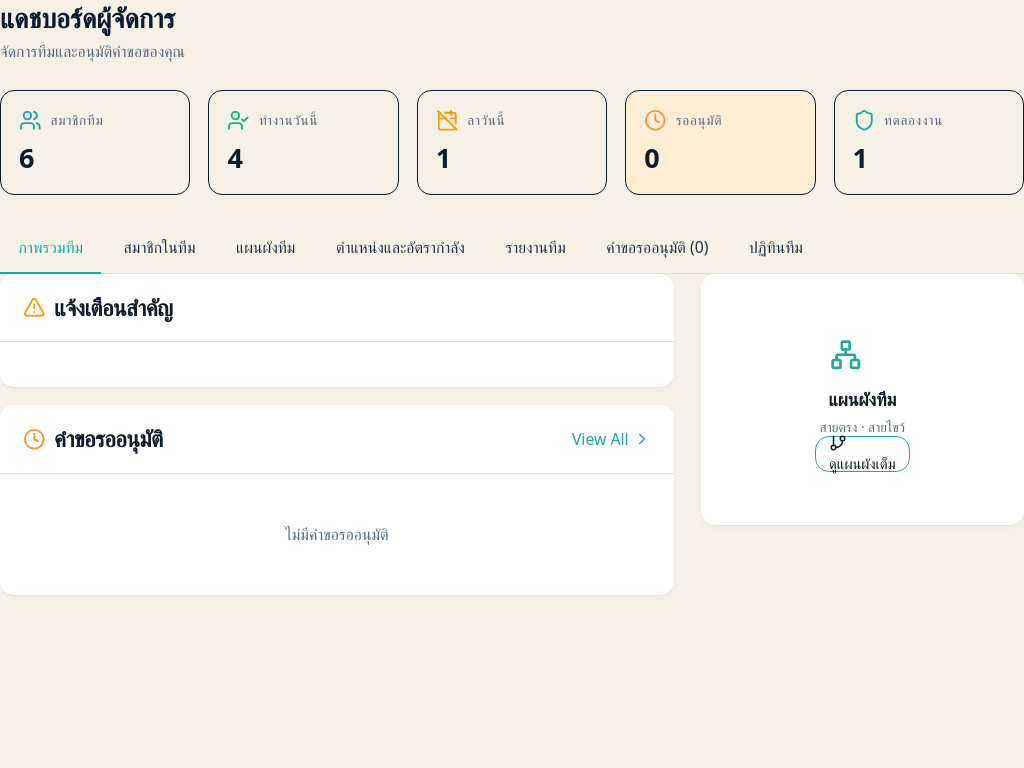
Test: AC-1: tab รายงานทีม › click tab รายงานทีม แล้วแสดง section อัตรากำลังตามหน่วยงาน
Click the button "รายงานทีม" at (536, 248), box [487,222,584,274]
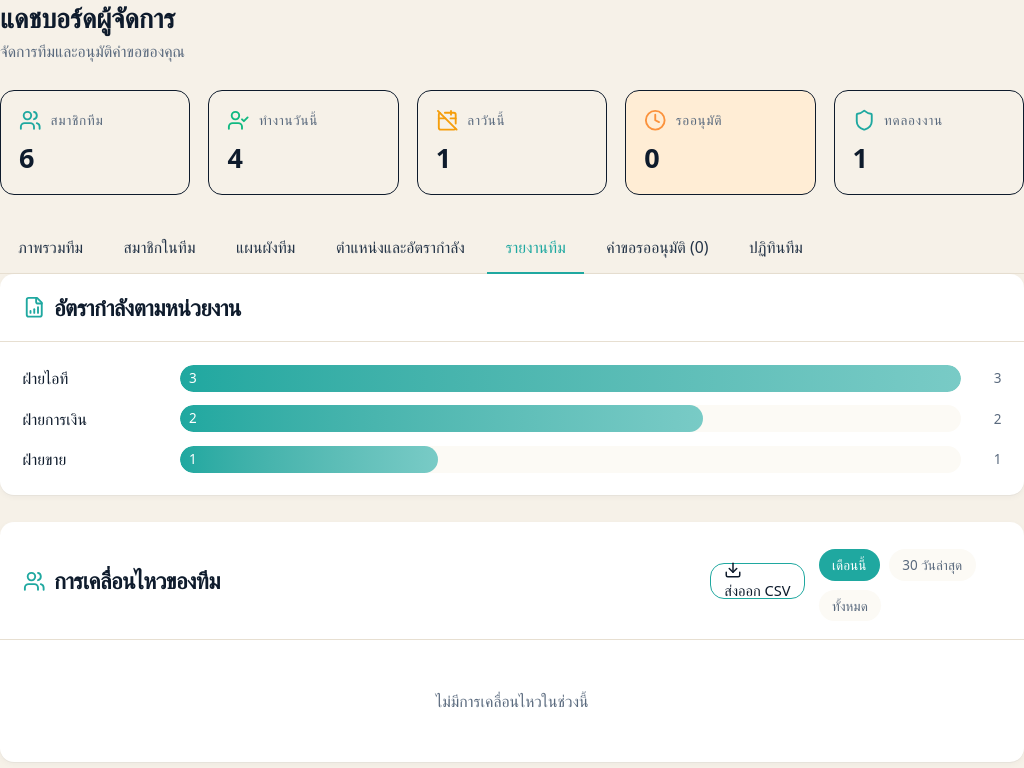
Result: the heading "อัตรากำลังตามหน่วยงาน" is shown at [22,292,241,324]
